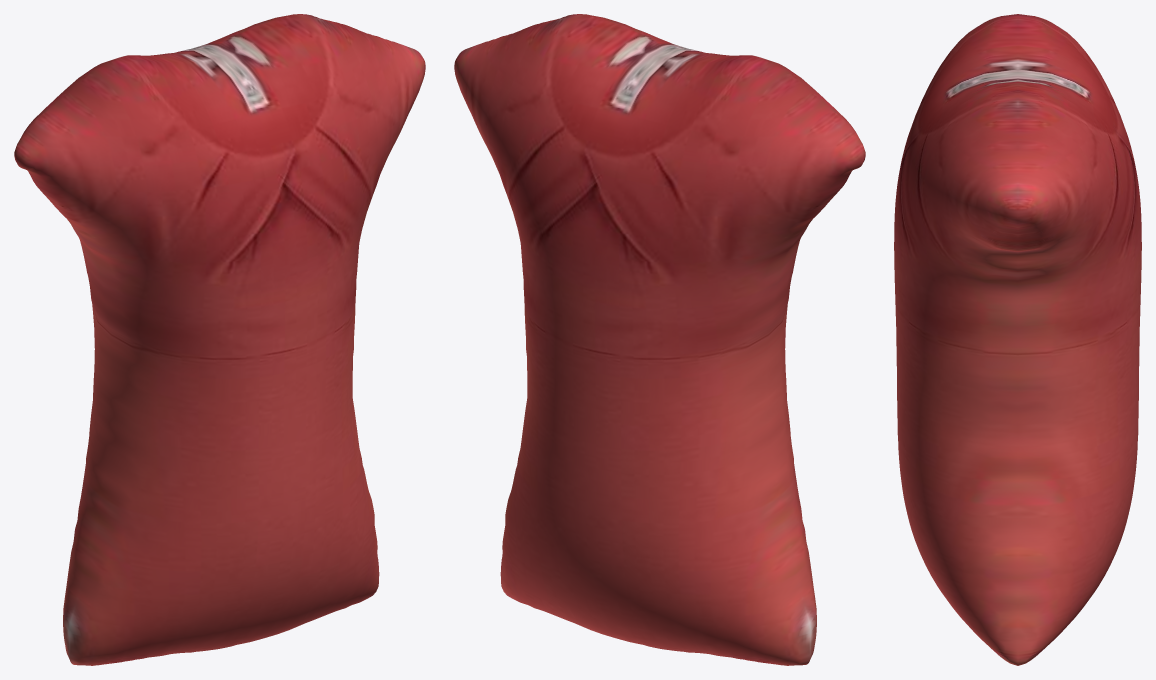
File: AN621D05U-G14@9=cloth_front.glb
The picture shows the model from 3 angles, left to right: view 1: azimuth 30°, elevation 25°; view 2: azimuth 150°, elevation 25°; view 3: azimuth 270°, elevation 25°; orthographic projection. The views are drawn at different scales.
Bounding box in the file's own units: 4.42 × 6.2 × 2.54.
1 material, 1 textured.
